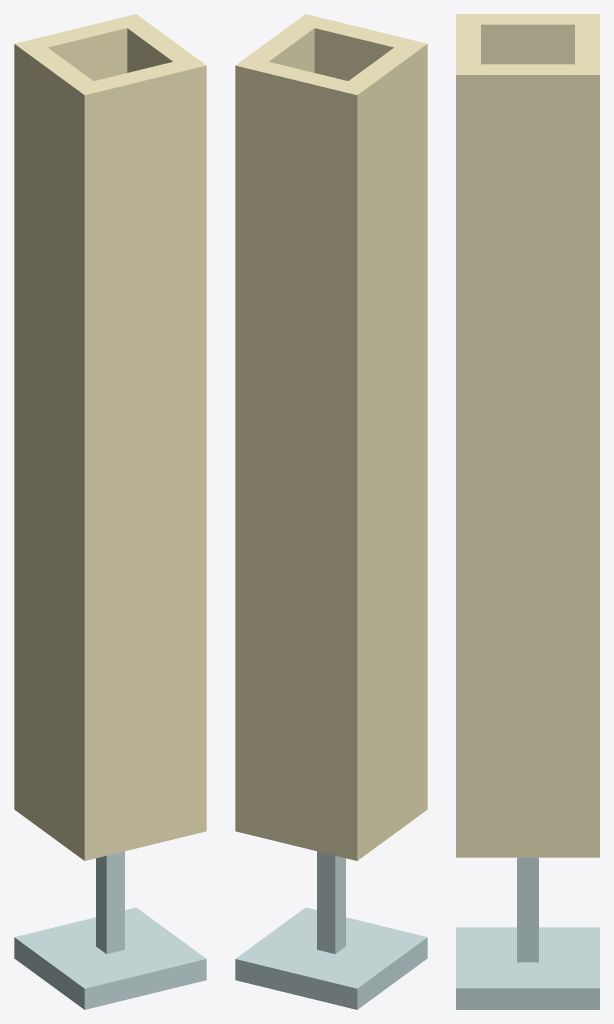
Rendered from lampSquareFloor.glb.
3 views of the same model, side by side, from view 1: azimuth 30°, elevation 25°; view 2: azimuth 150°, elevation 25°; view 3: azimuth 270°, elevation 25° (orthographic). The views are drawn at different scales.
Parts seen in each view (by area): view 1: lampSquareFloor; view 2: lampSquareFloor; view 3: lampSquareFloor.
Boxes of the visible parts, <box> form: lampSquareFloor: <box>14,14,206,1009</box>; lampSquareFloor: <box>235,14,427,1009</box>; lampSquareFloor: <box>456,14,599,1009</box>.
Bounding box in the file's own units: 1.2 × 8.6 × 1.2.
